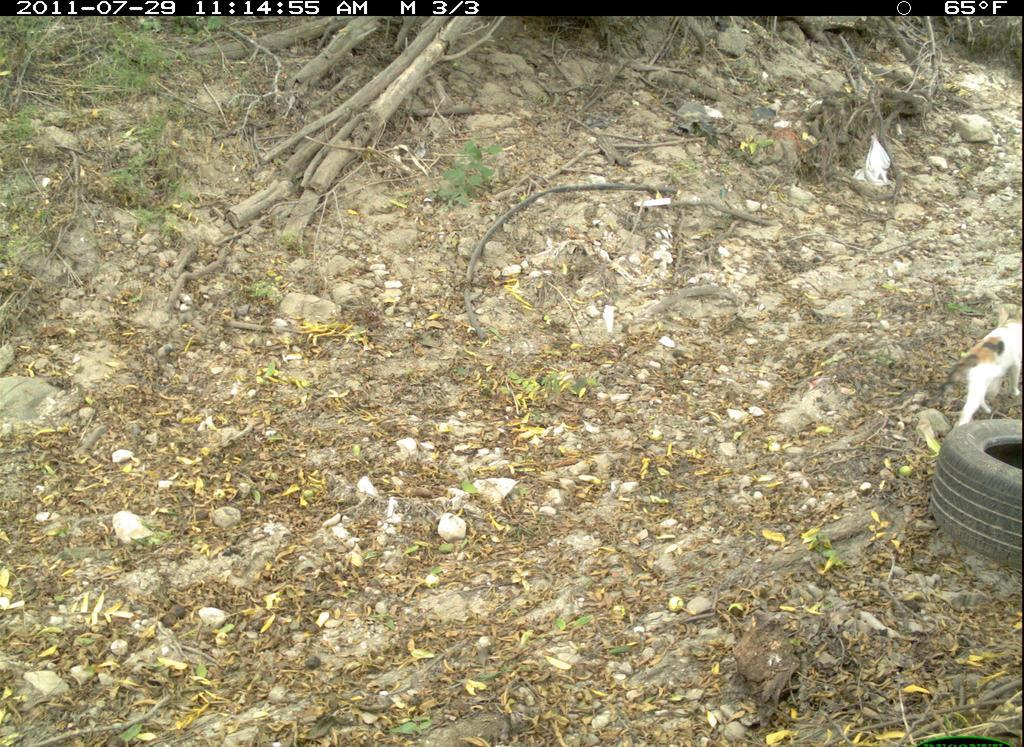cat: (920, 303, 1018, 432)
